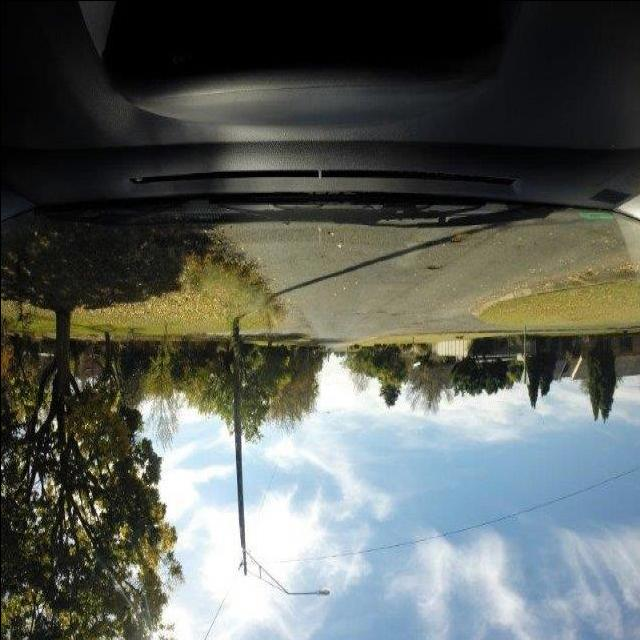lubang: (442, 231, 470, 245), (424, 260, 444, 274)
